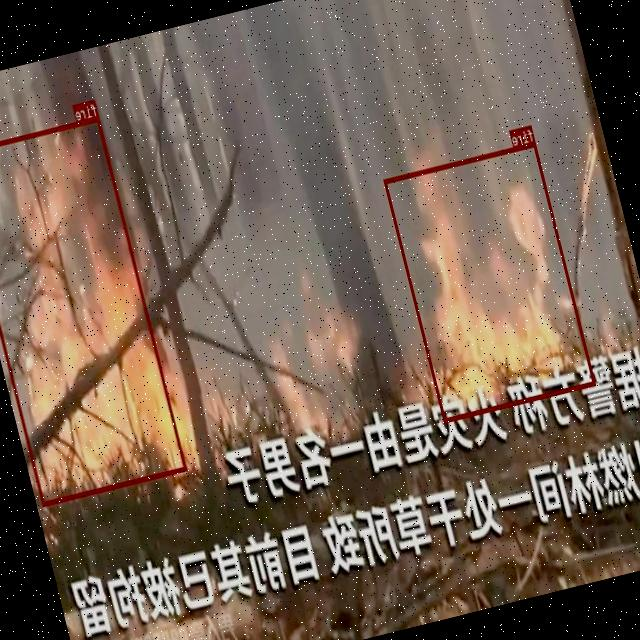fire: (0, 115, 186, 505), (384, 140, 596, 422)
